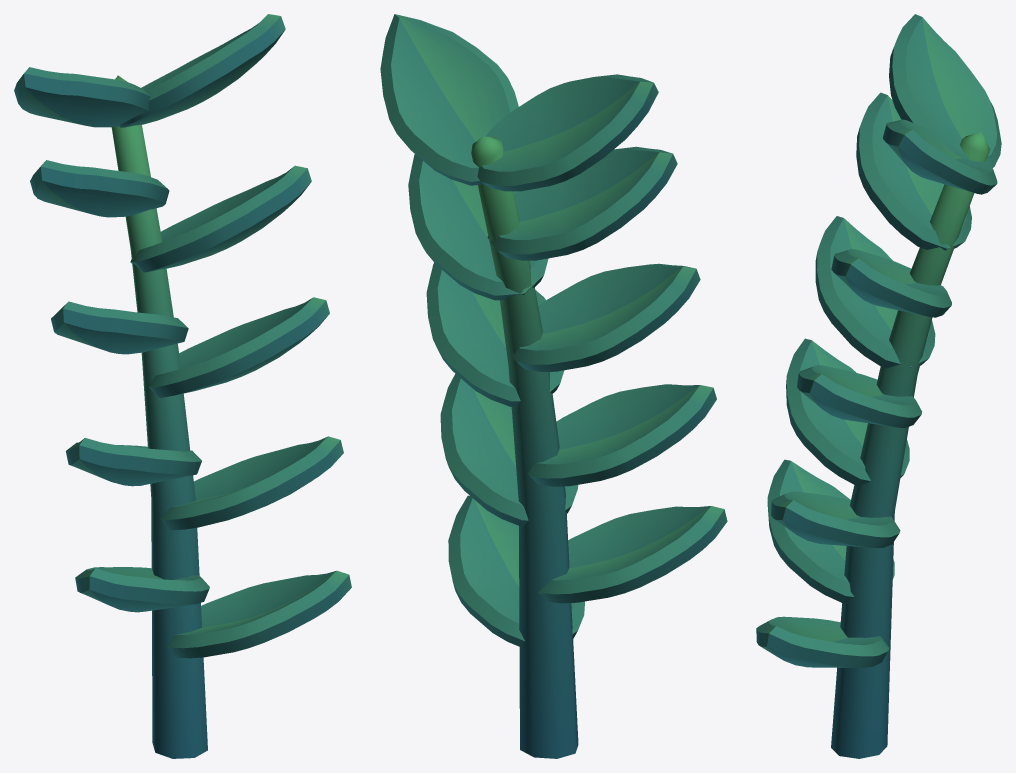
The model's file is zzplant_leaf_large_A.fbx.
The picture shows the model from 3 angles, left to right: view 1: azimuth 30°, elevation 25°; view 2: azimuth 150°, elevation 25°; view 3: azimuth 270°, elevation 25°; orthographic projection. The views are drawn at different scales.
Parts seen in each view (by area): view 1: zzplant_leaf_large_A; view 2: zzplant_leaf_large_A; view 3: zzplant_leaf_large_A.
Part boxes in pixels (bbox=[...]): zzplant_leaf_large_A: bbox=[14, 14, 351, 758]; zzplant_leaf_large_A: bbox=[380, 14, 727, 758]; zzplant_leaf_large_A: bbox=[756, 14, 1001, 758].
Bounding box in the file's own units: 67.17 × 172 × 56.84.
1 material, 1 textured.
